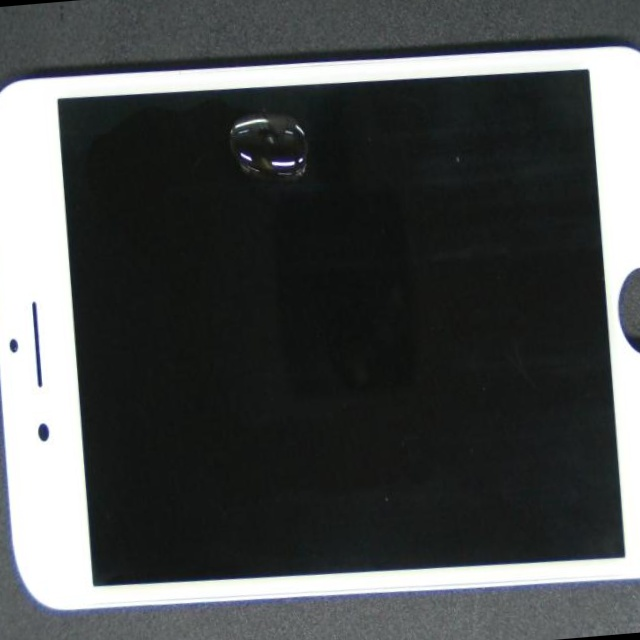oil: (139, 68, 489, 237)
